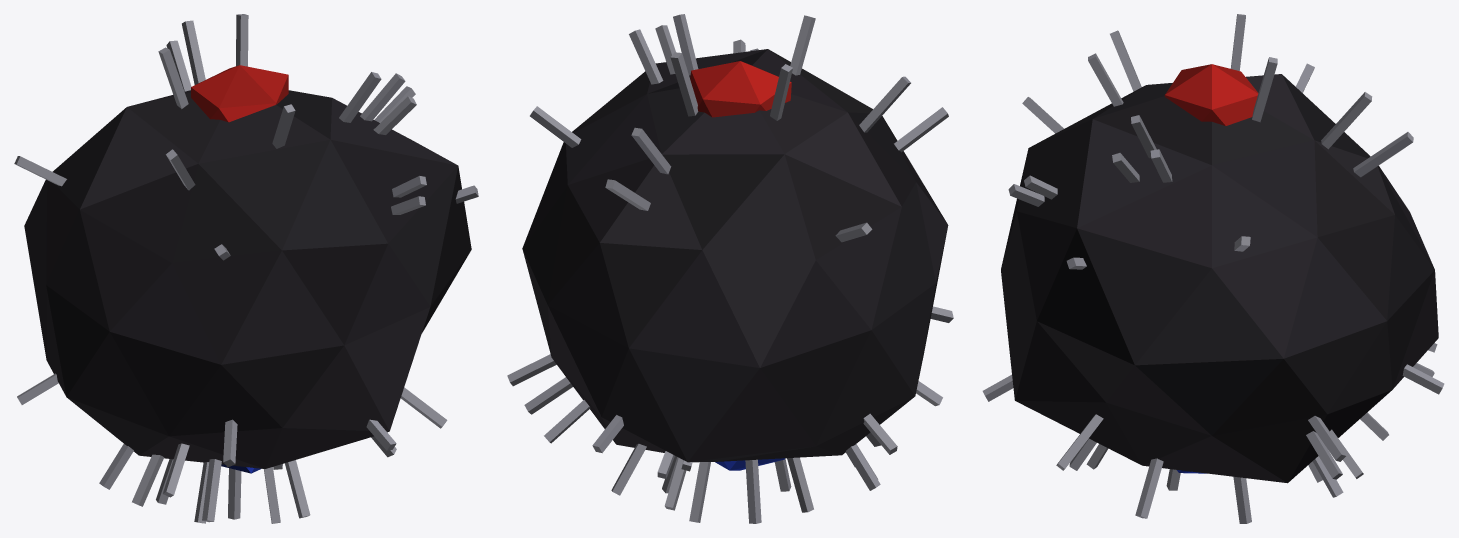
File: lodestone.glb
3 renders of one model, left to right at view 1: azimuth 30°, elevation 25°; view 2: azimuth 150°, elevation 25°; view 3: azimuth 270°, elevation 25°, orthographic.
Parts seen in each view (by area): view 1: Mesh; view 2: Mesh; view 3: Mesh.
Boxes of the visible parts, x1=… form: Mesh: x1=14, y1=14, x2=478, y2=523; Mesh: x1=507, y1=14, x2=953, y2=523; Mesh: x1=982, y1=14, x2=1444, y2=523.
Size of the model in its own units: 0.7481 by 0.8495 by 0.7743.
